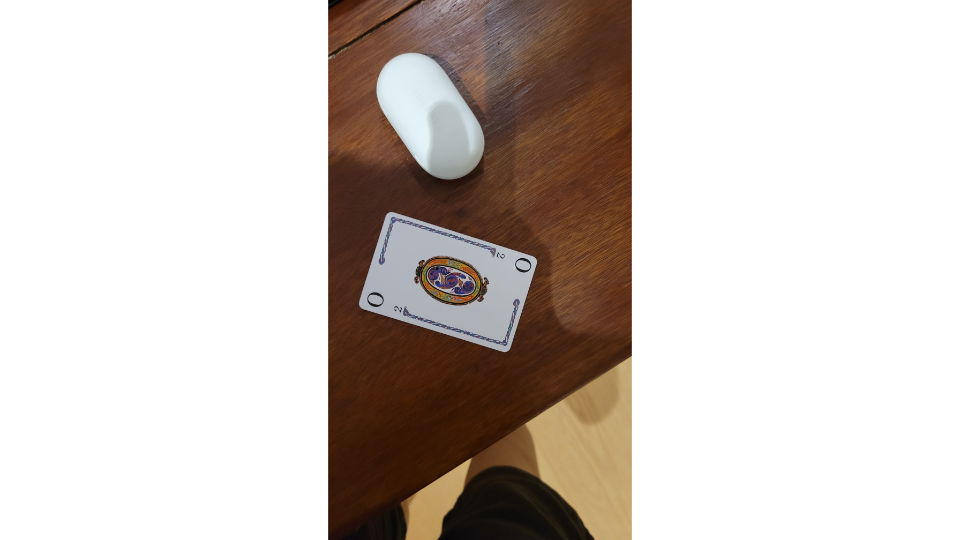O: (355, 209, 541, 355)
